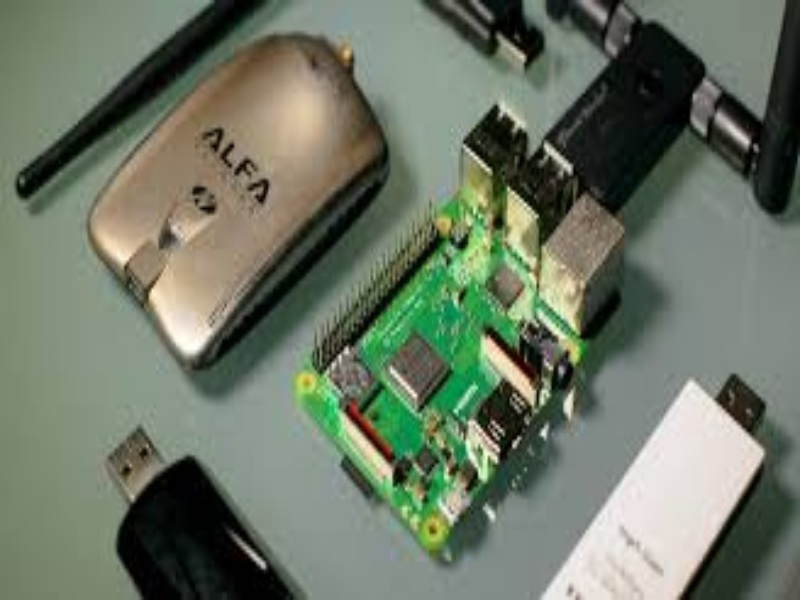raspberrypi: (263, 97, 637, 561)
